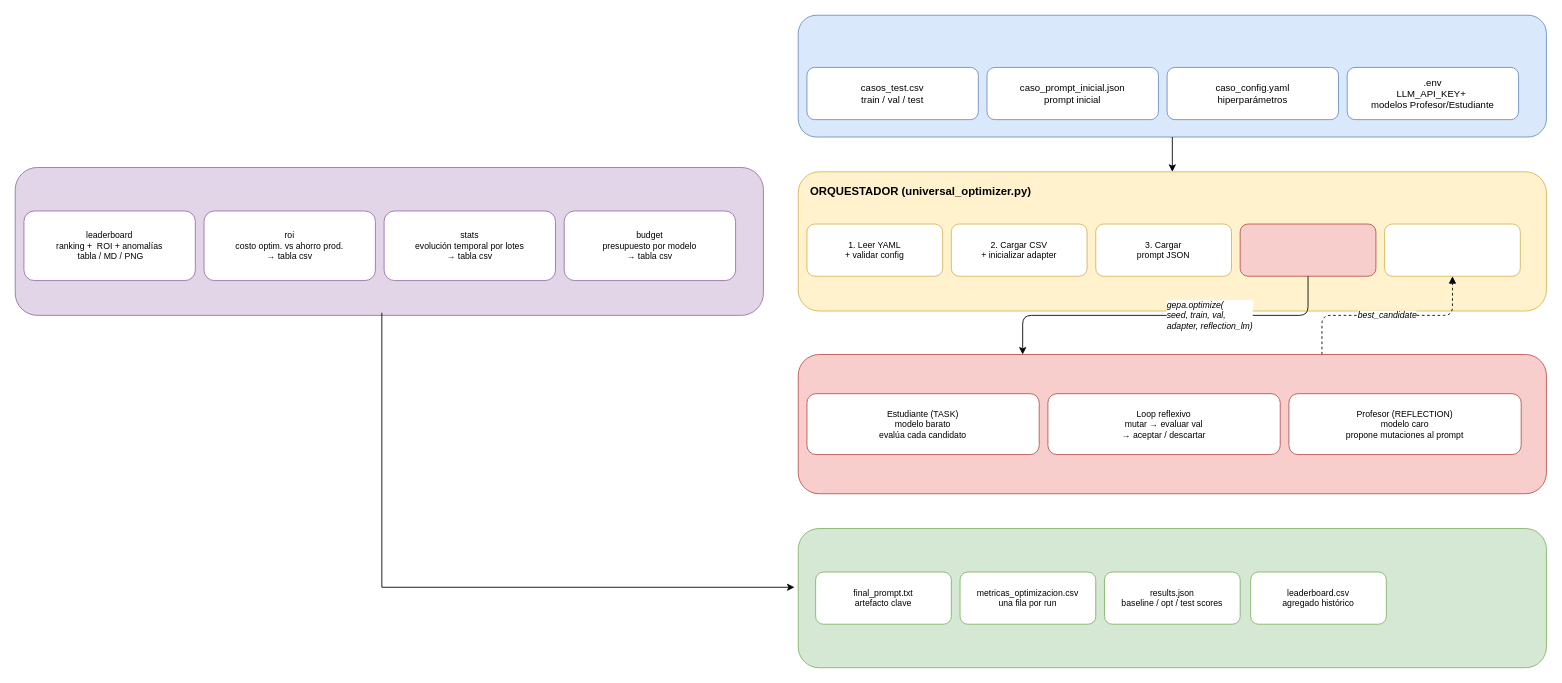
The diagram is 1562 pixels wide and 683 high, and some of its shapes have lost their labels. The shapes that lost their labels are listed below. From the top down, each one's box as (x1, y1, x2, y2) in pixels, then its label:
(797, 14, 1546, 137): ENTRADAS (versionadas en git)
(14, 167, 763, 315): ANÁLISIS Y VISUALIZACIÓN (python analyze ...)
(1239, 223, 1376, 276): 4. Llamar gepa.optimize()
(1384, 223, 1520, 276): 5. Guardar resultados + metadata + CSV log
(797, 354, 1546, 494): GEPA (pip install gepa — biblioteca externa)
(797, 528, 1546, 668): SALIDAS (results/ — gitignoreado, regenerable)
